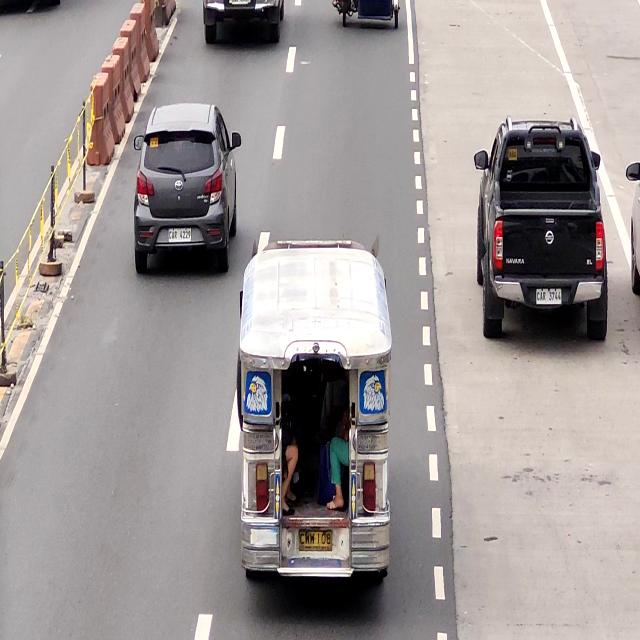Car: (468, 120, 606, 340), (134, 104, 240, 276)
Jeep: (238, 237, 387, 601)
License-Plate: (298, 528, 333, 557), (536, 286, 562, 306), (166, 227, 194, 244)
